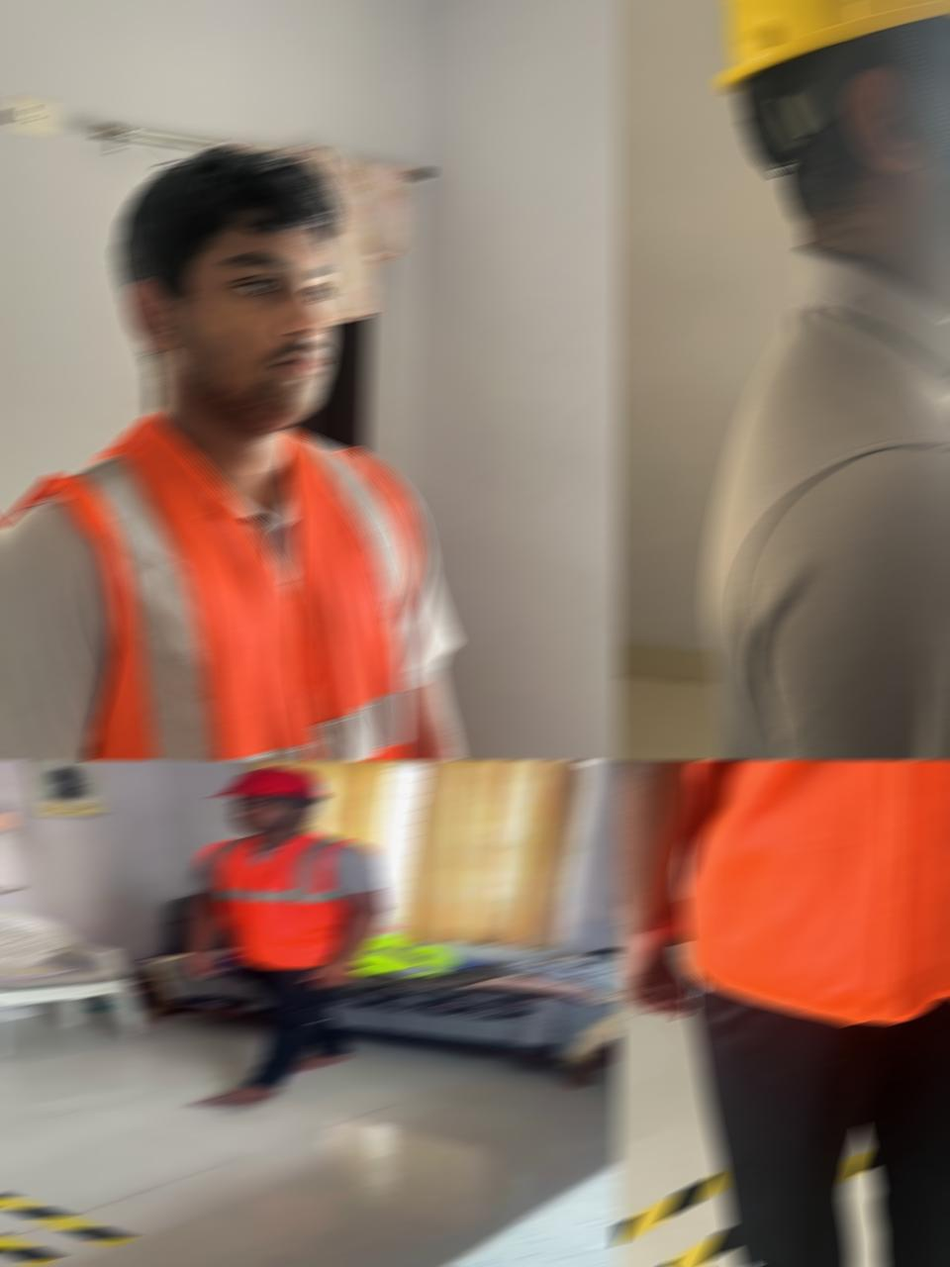BorderLine: (614, 1140, 875, 1267)
Helmet: (716, 0, 950, 263), (209, 767, 328, 802)
No_Helmet: (115, 146, 346, 439)
No_Vest: (703, 249, 950, 759)
Person: (0, 146, 491, 759), (703, 0, 950, 759), (614, 760, 950, 1266), (182, 767, 388, 1105)
Vest: (0, 412, 420, 759), (676, 760, 950, 1026), (198, 831, 381, 969)
